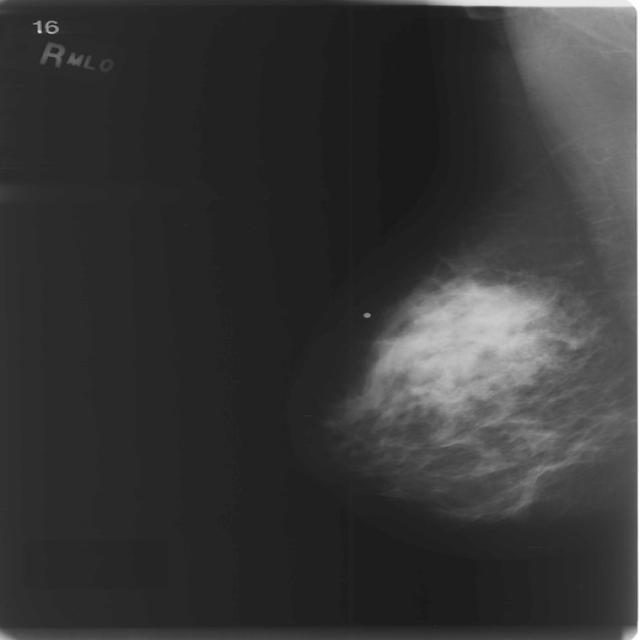tumour: (403, 287, 543, 368)
